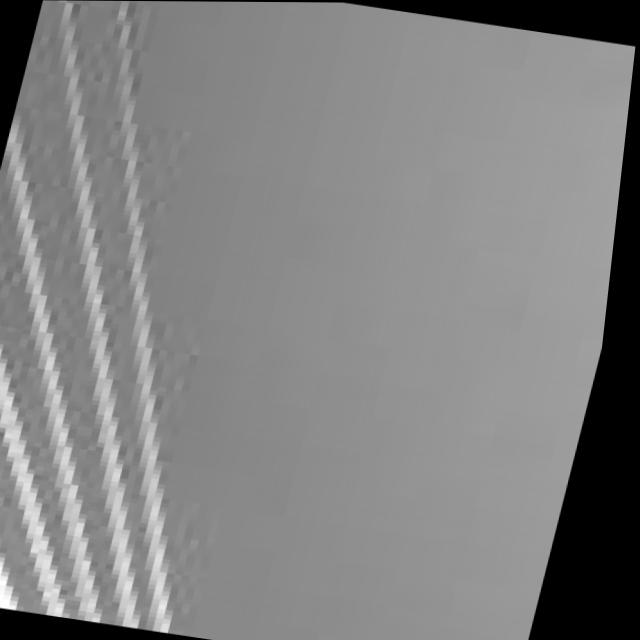metal-plates: (1, 1, 637, 640)
